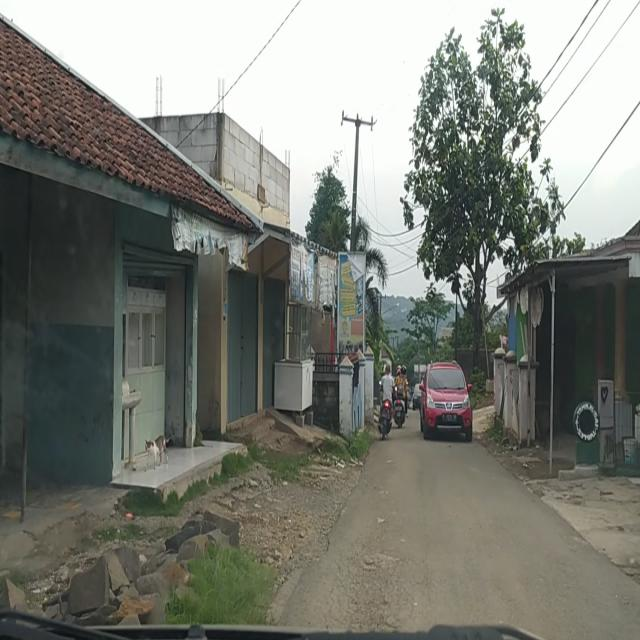Drain Hole: (334, 542, 422, 628)
